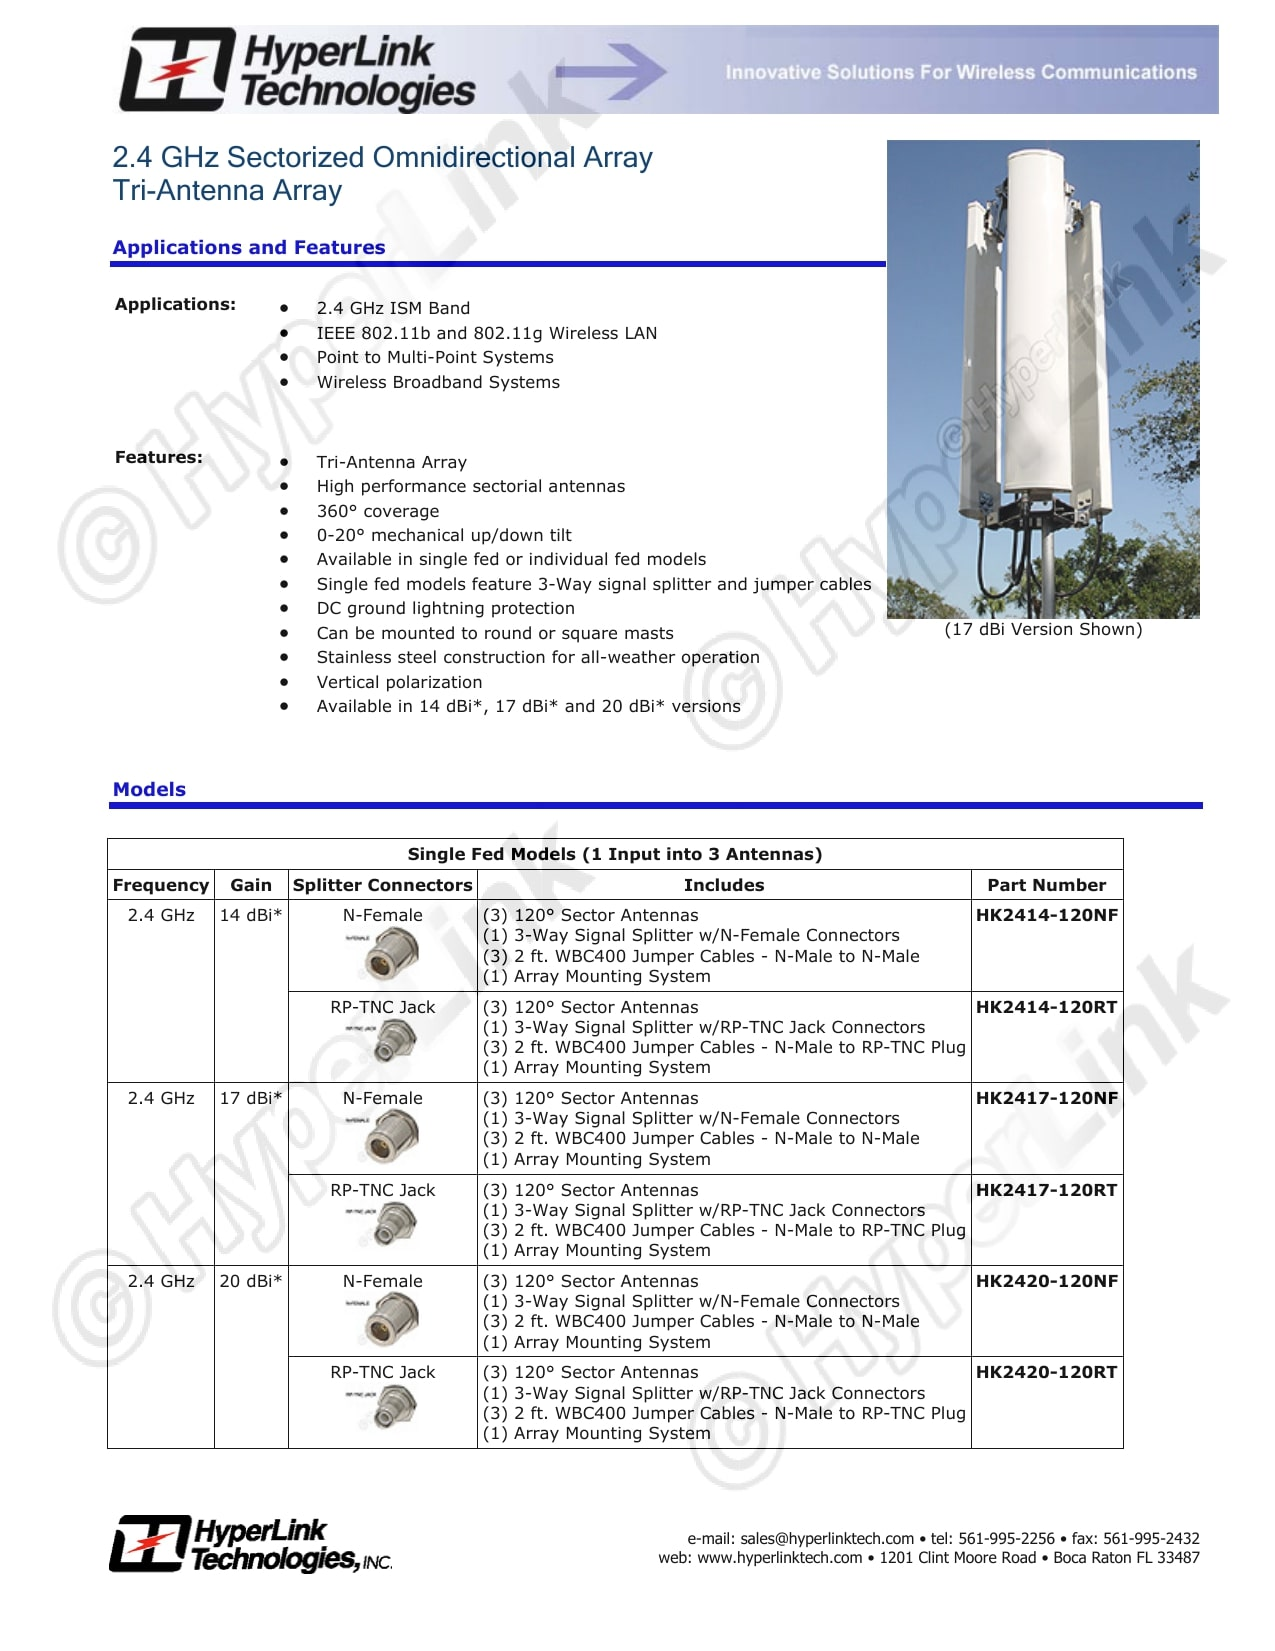sa: (946, 153, 1136, 569)
